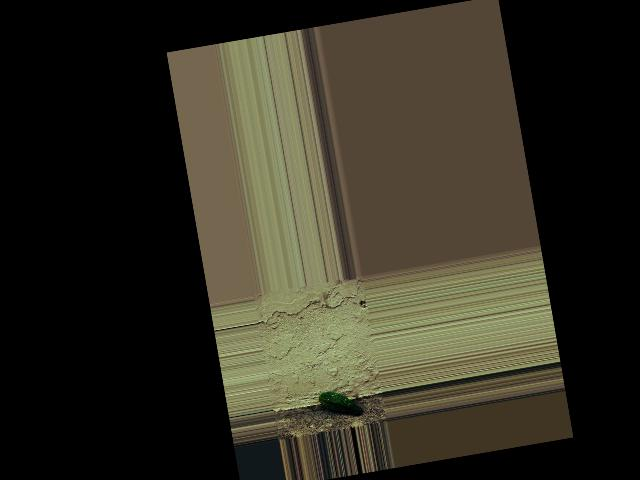cucumber: (317, 386, 361, 420)
